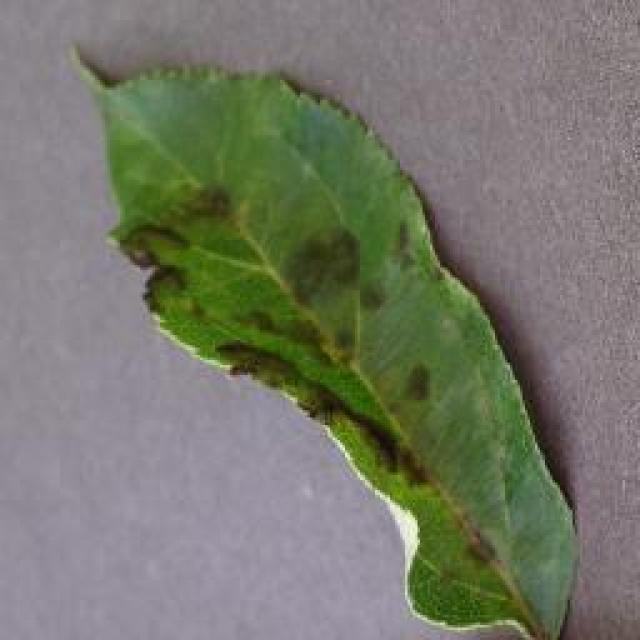apple scab disease: (68, 40, 582, 638)
